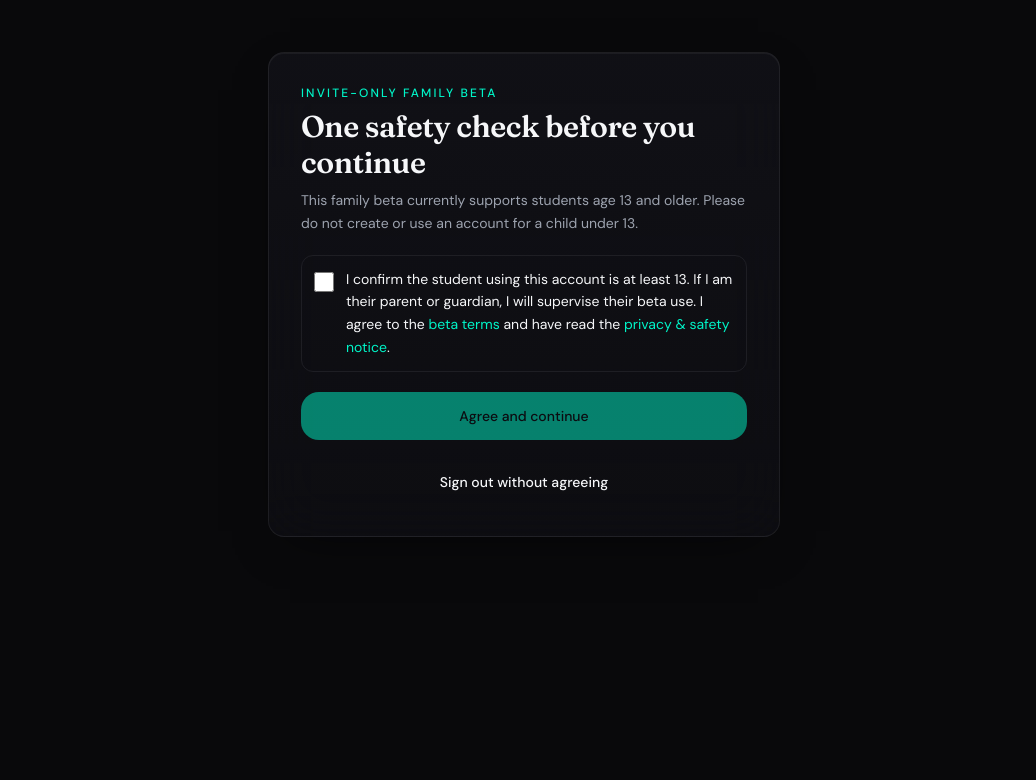
Test: family beta agreement › allows a signed-in person to leave without agreeing
Step 1. Click the button "Sign out without agreeing" → (524, 482), box top-left (301, 460), bottom-right (747, 504)
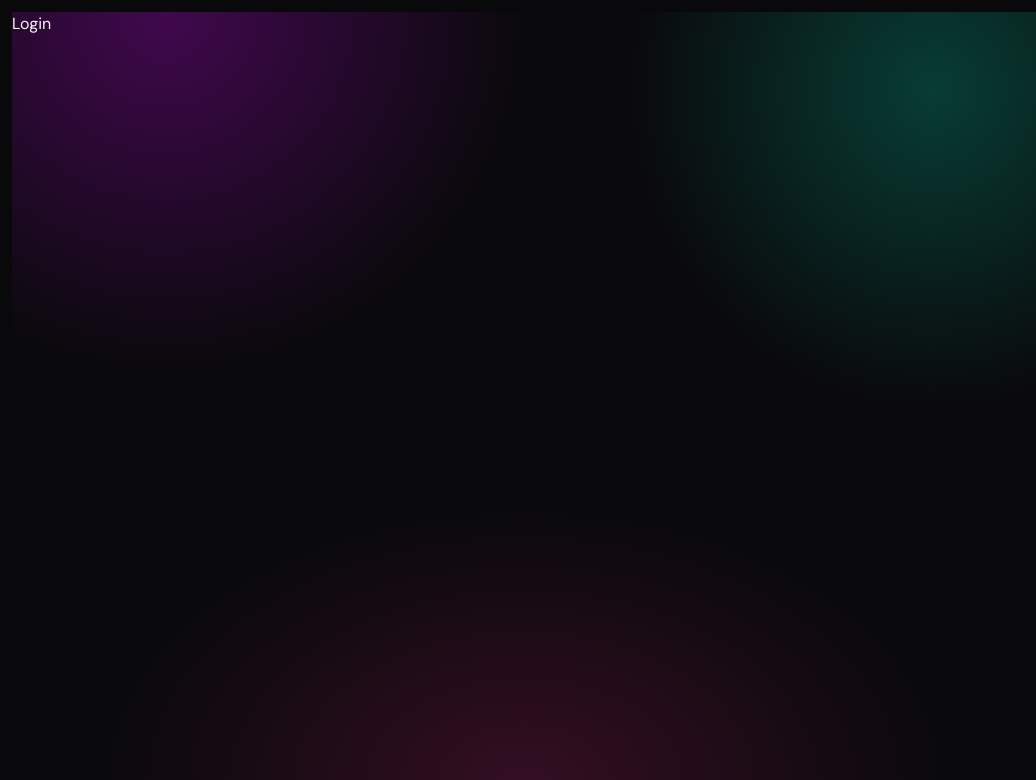
expect the text "Login" is shown: met, box top-left (12, 13), bottom-right (51, 34)
